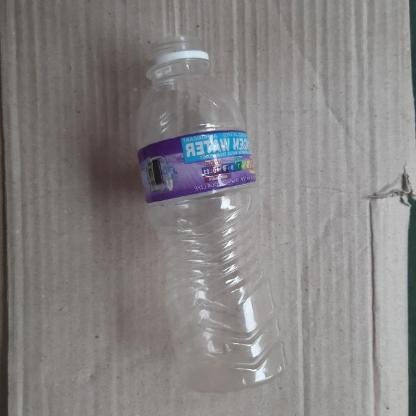Plastic Bottle: (135, 35, 287, 390)
